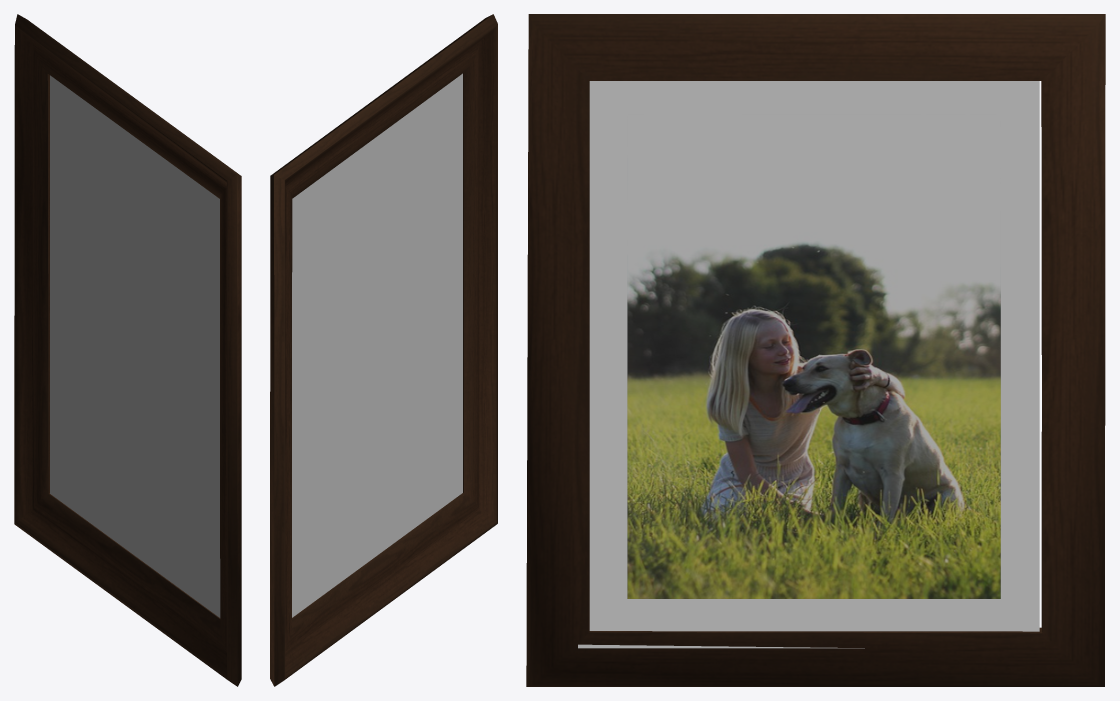
File: SM_Photo_A3.fbx
3 views of the same model, side by side, from view 1: azimuth 30°, elevation 25°; view 2: azimuth 150°, elevation 25°; view 3: azimuth 270°, elevation 25° (orthographic). The views are drawn at different scales.
Parts seen in each view (by area): view 1: SM_Photo_A3; view 2: SM_Photo_A3; view 3: SM_Photo_A3.
Part boxes in pixels (box(x1,y1,x2,y2)): SM_Photo_A3: box(14, 14, 241, 686); SM_Photo_A3: box(270, 14, 497, 686); SM_Photo_A3: box(526, 14, 1105, 686).
Bounding box in the file's own units: 1.51 × 25.72 × 32.97.
Materials: 3 (2 with a texture image).
